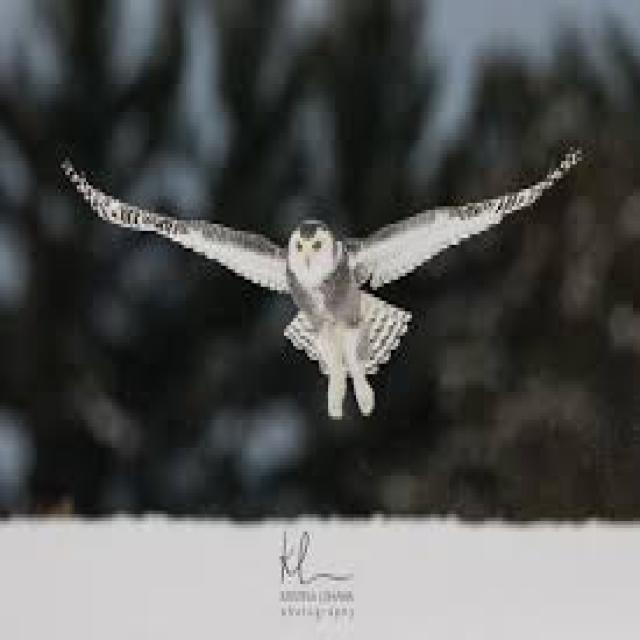snowy owl: (25, 138, 605, 437)
